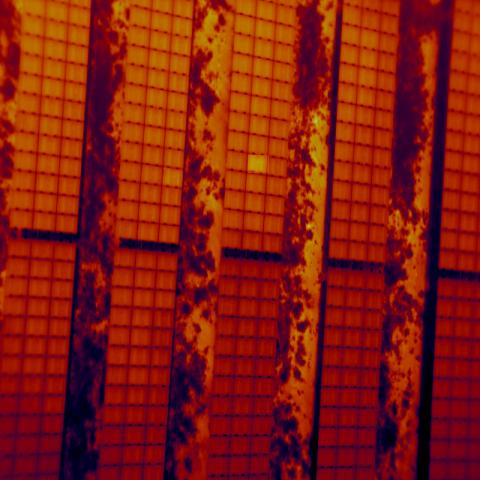fault: (248, 156, 269, 174)
